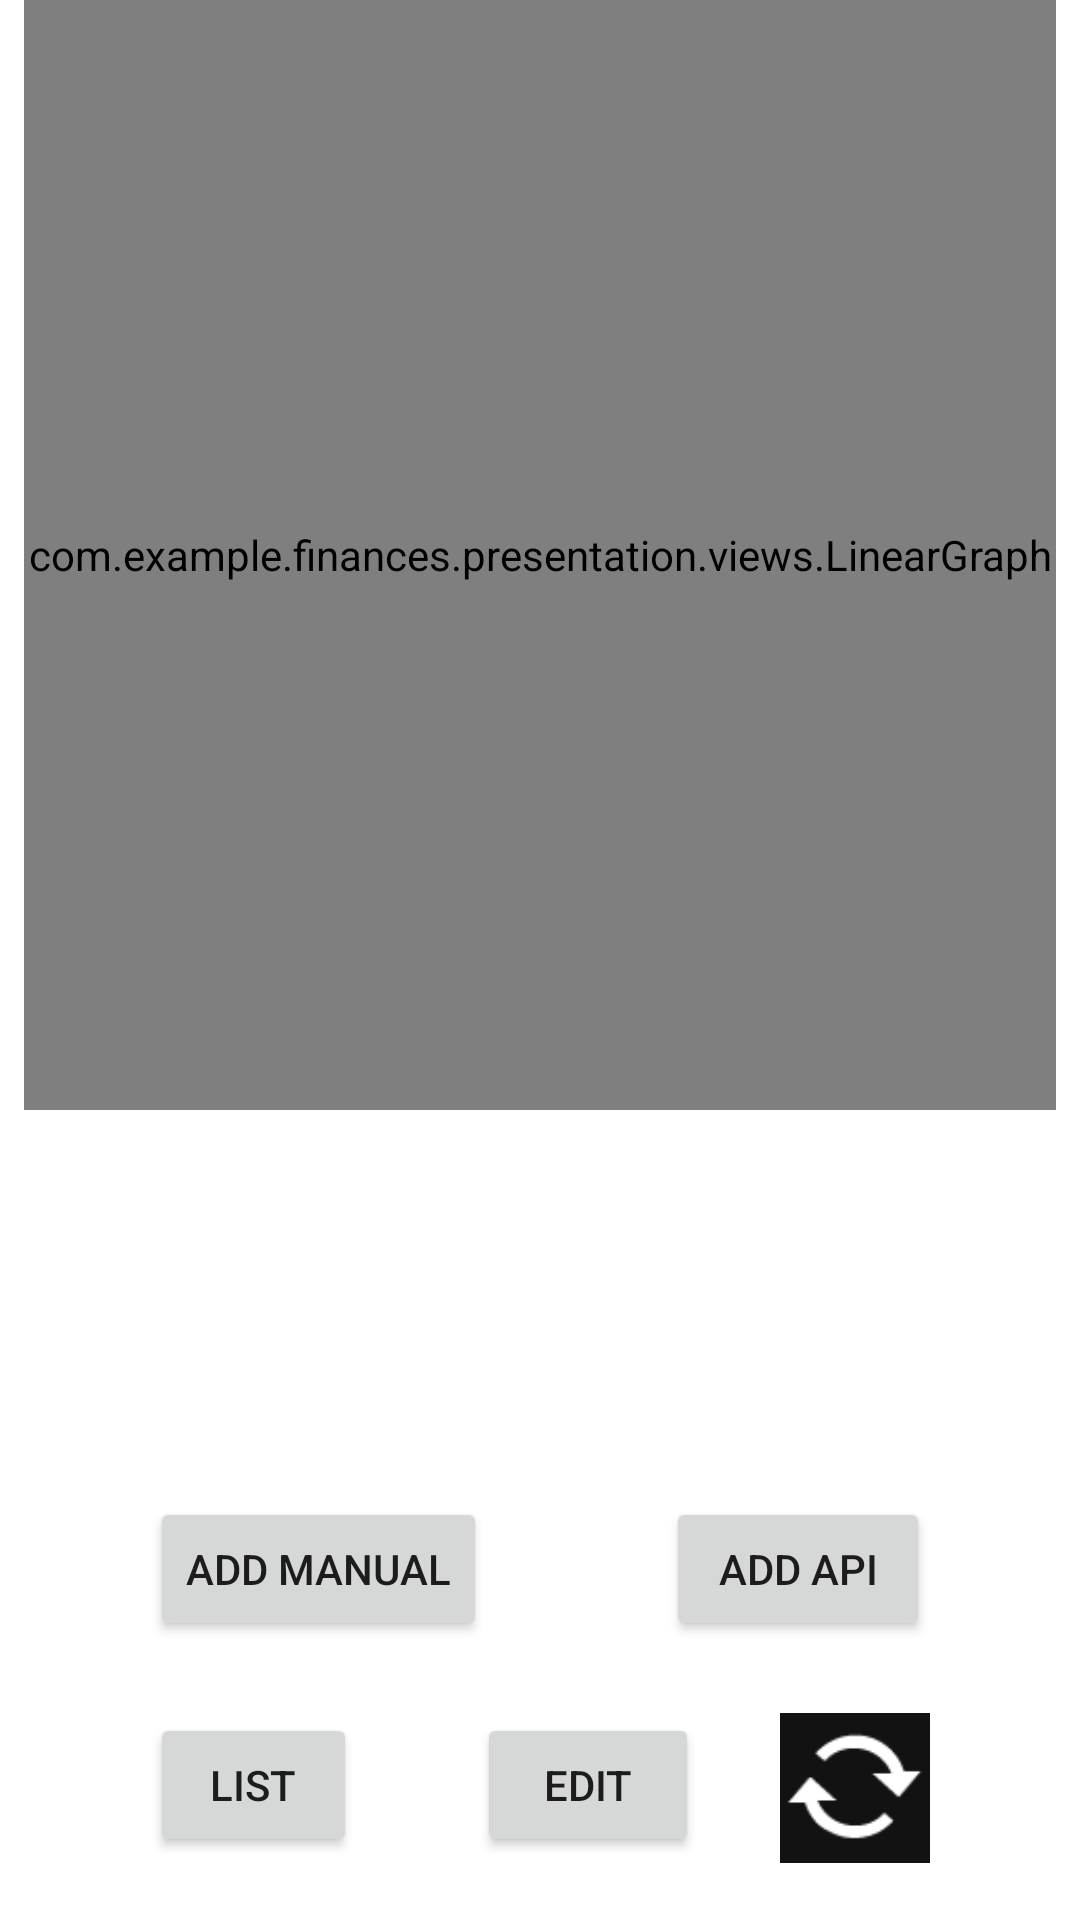

Screen size 1080 × 1920. Icon name, then its center in pixels as [x,y]:
sync: [855,1788]
